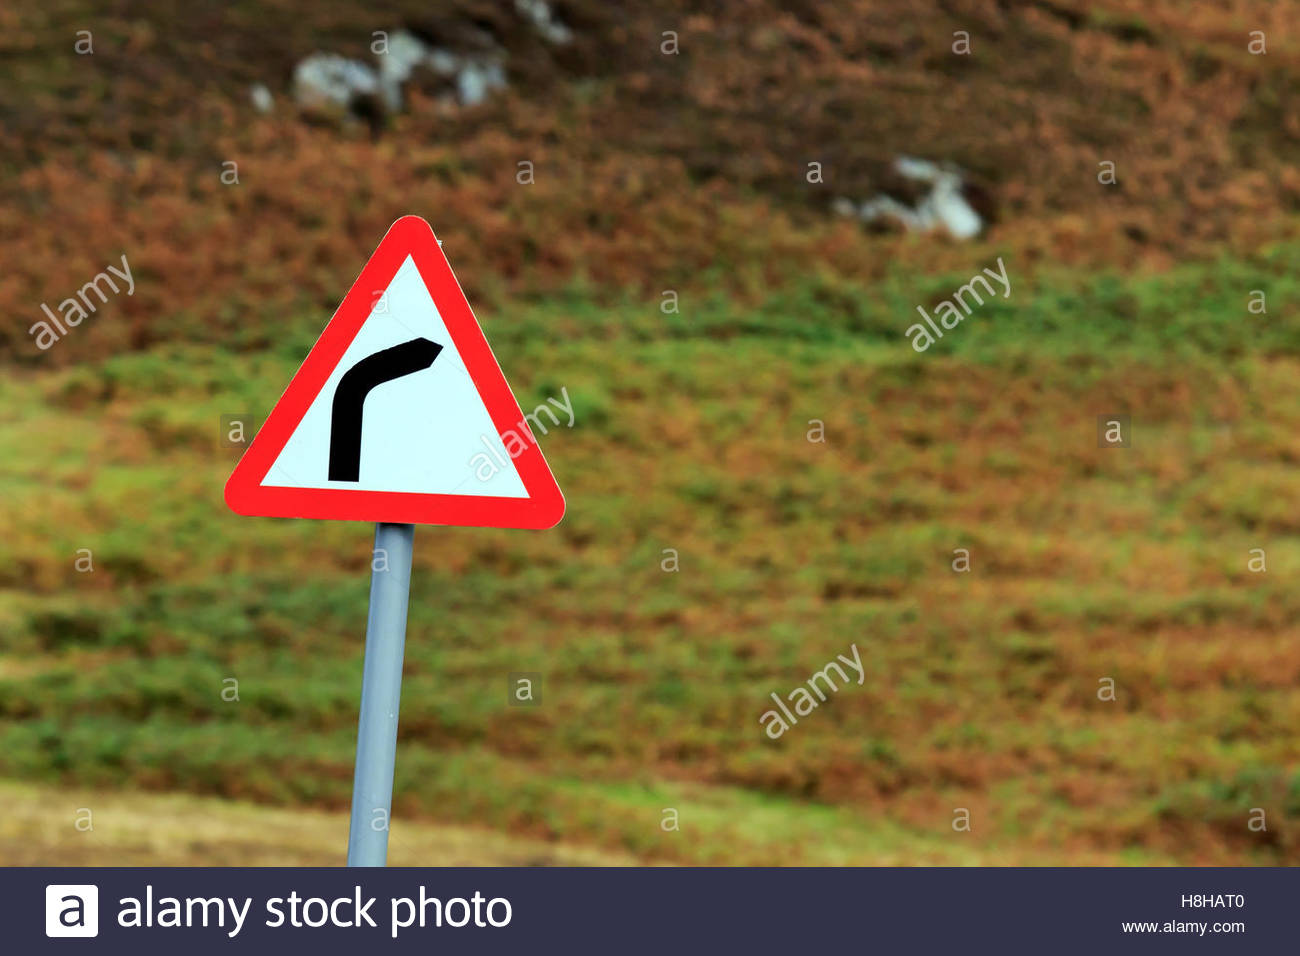Bend_to_right: (218, 212, 568, 536)
